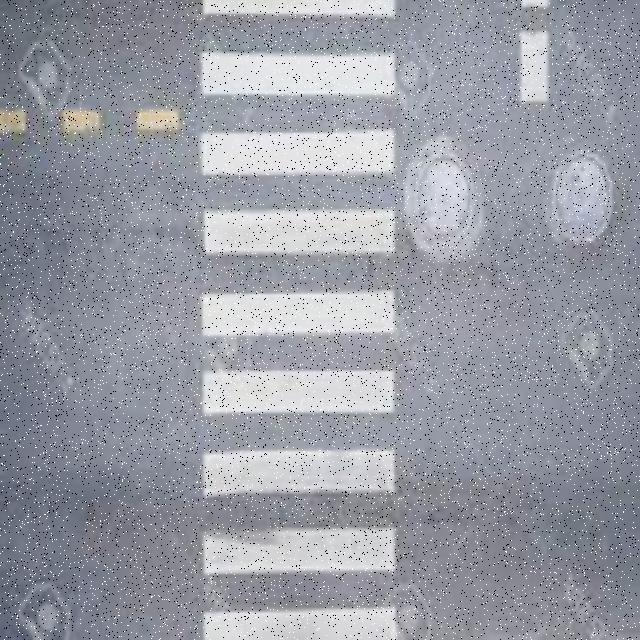Pedestrian crosswalk: (151, 0, 440, 637)
